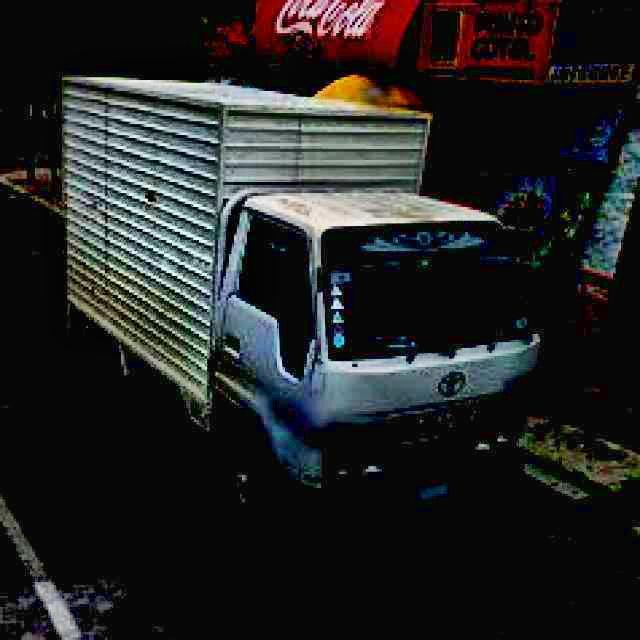carro: (59, 64, 538, 522)
